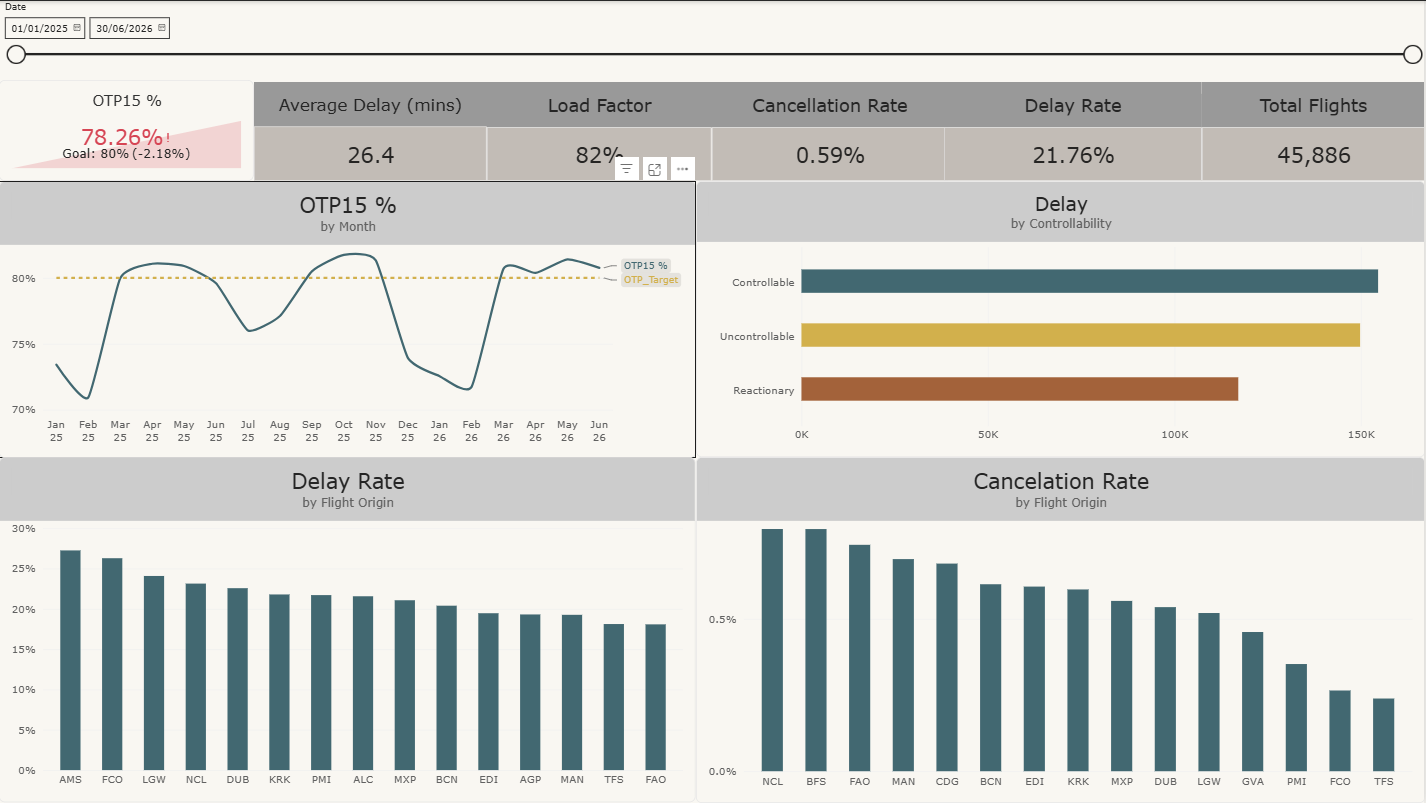

The dashboard page shown, as its layout file describes it:
{"tool":"powerbi","page":{"name":"Page 1","canvas":[1920,1080],"ordinal":0},"visuals":[{"type":"cardVisual","title":"Average Delay (mins)","fields":{"Data":["Avg(flights.departure_delay_mins)"]},"box":[343.4,109.1,313.8,133.3],"z":0},{"type":"cardVisual","title":"Load Factor","fields":{"Data":["flights.Load_factor"]},"box":[657.2,109.1,303,133.3],"z":1000},{"type":"cardVisual","title":"Cancellation Rate","fields":{"Data":["flights.Cancellation Rate %"]},"box":[960.1,109.1,317.8,133.3],"z":2000},{"type":"cardVisual","title":"Delay Rate","fields":{"Data":["flights.Delay Rate %"]},"box":[1272.6,109.1,347.4,133.3],"z":3000},{"type":"kpi","title":"OTP15 %","fields":{"Goal":["flights.OTP_Target"],"Indicator":["flights.OTP15 %"],"TrendLine":["Date Table.Year"]},"box":[0,106.4,343.4,136],"z":4000},{"type":"lineChart","title":"OTP15 % ","fields":{"Category":["Date Table.Month Year"],"Y":["flights.OTP15 %","flights.OTP_Target"]},"box":[0,242.4,938.6,373],"z":5000},{"type":"clusteredColumnChart","title":"Delay Rate","fields":{"Category":["flights.origin"],"Y":["flights.Delay Rate %"]},"box":[0,614.5,938.3,464.6],"z":6000},{"type":"cardVisual","title":"Total Flights","fields":{"Data":["Date Table.Total Flights"]},"box":[1620,109.1,300.3,133.3],"z":7000},{"type":"clusteredColumnChart","title":"Cancelation Rate","fields":{"Category":["flights.origin"],"Y":["flights.Cancellation Rate %"]},"box":[938.3,614.5,981.7,466.1],"z":8000},{"type":"barChart","title":"Delay","fields":{"Category":["delay_codes.controllability"],"Series":["delay_codes.controllability"],"Y":["Sum(flights.departure_delay_mins)"]},"box":[938.6,242.4,981.7,371.7],"z":9000},{"type":"slicer","fields":{"Values":["Date Table.Date"]},"box":[0,0,1920.3,109.1],"z":10000}]}

Visuals, with their boxes in screenshot pixels (x1, y1, x2, y2), scaled from the page's 1920x1080 canvas onto the 1426x803 screenshot:
"Average Delay (mins)" cardVisual: 255 81 488 180
"Load Factor" cardVisual: 488 81 713 180
"Cancellation Rate" cardVisual: 713 81 949 180
"Delay Rate" cardVisual: 945 81 1203 180
"OTP15 %" kpi: 0 79 255 180
"OTP15 % " lineChart: 0 180 697 458
"Delay Rate" clusteredColumnChart: 0 457 697 802
"Total Flights" cardVisual: 1203 81 1425 180
"Cancelation Rate" clusteredColumnChart: 697 457 1425 802
"Delay" barChart: 697 180 1425 457
slicer - Date Table.Date: 0 0 1425 81
